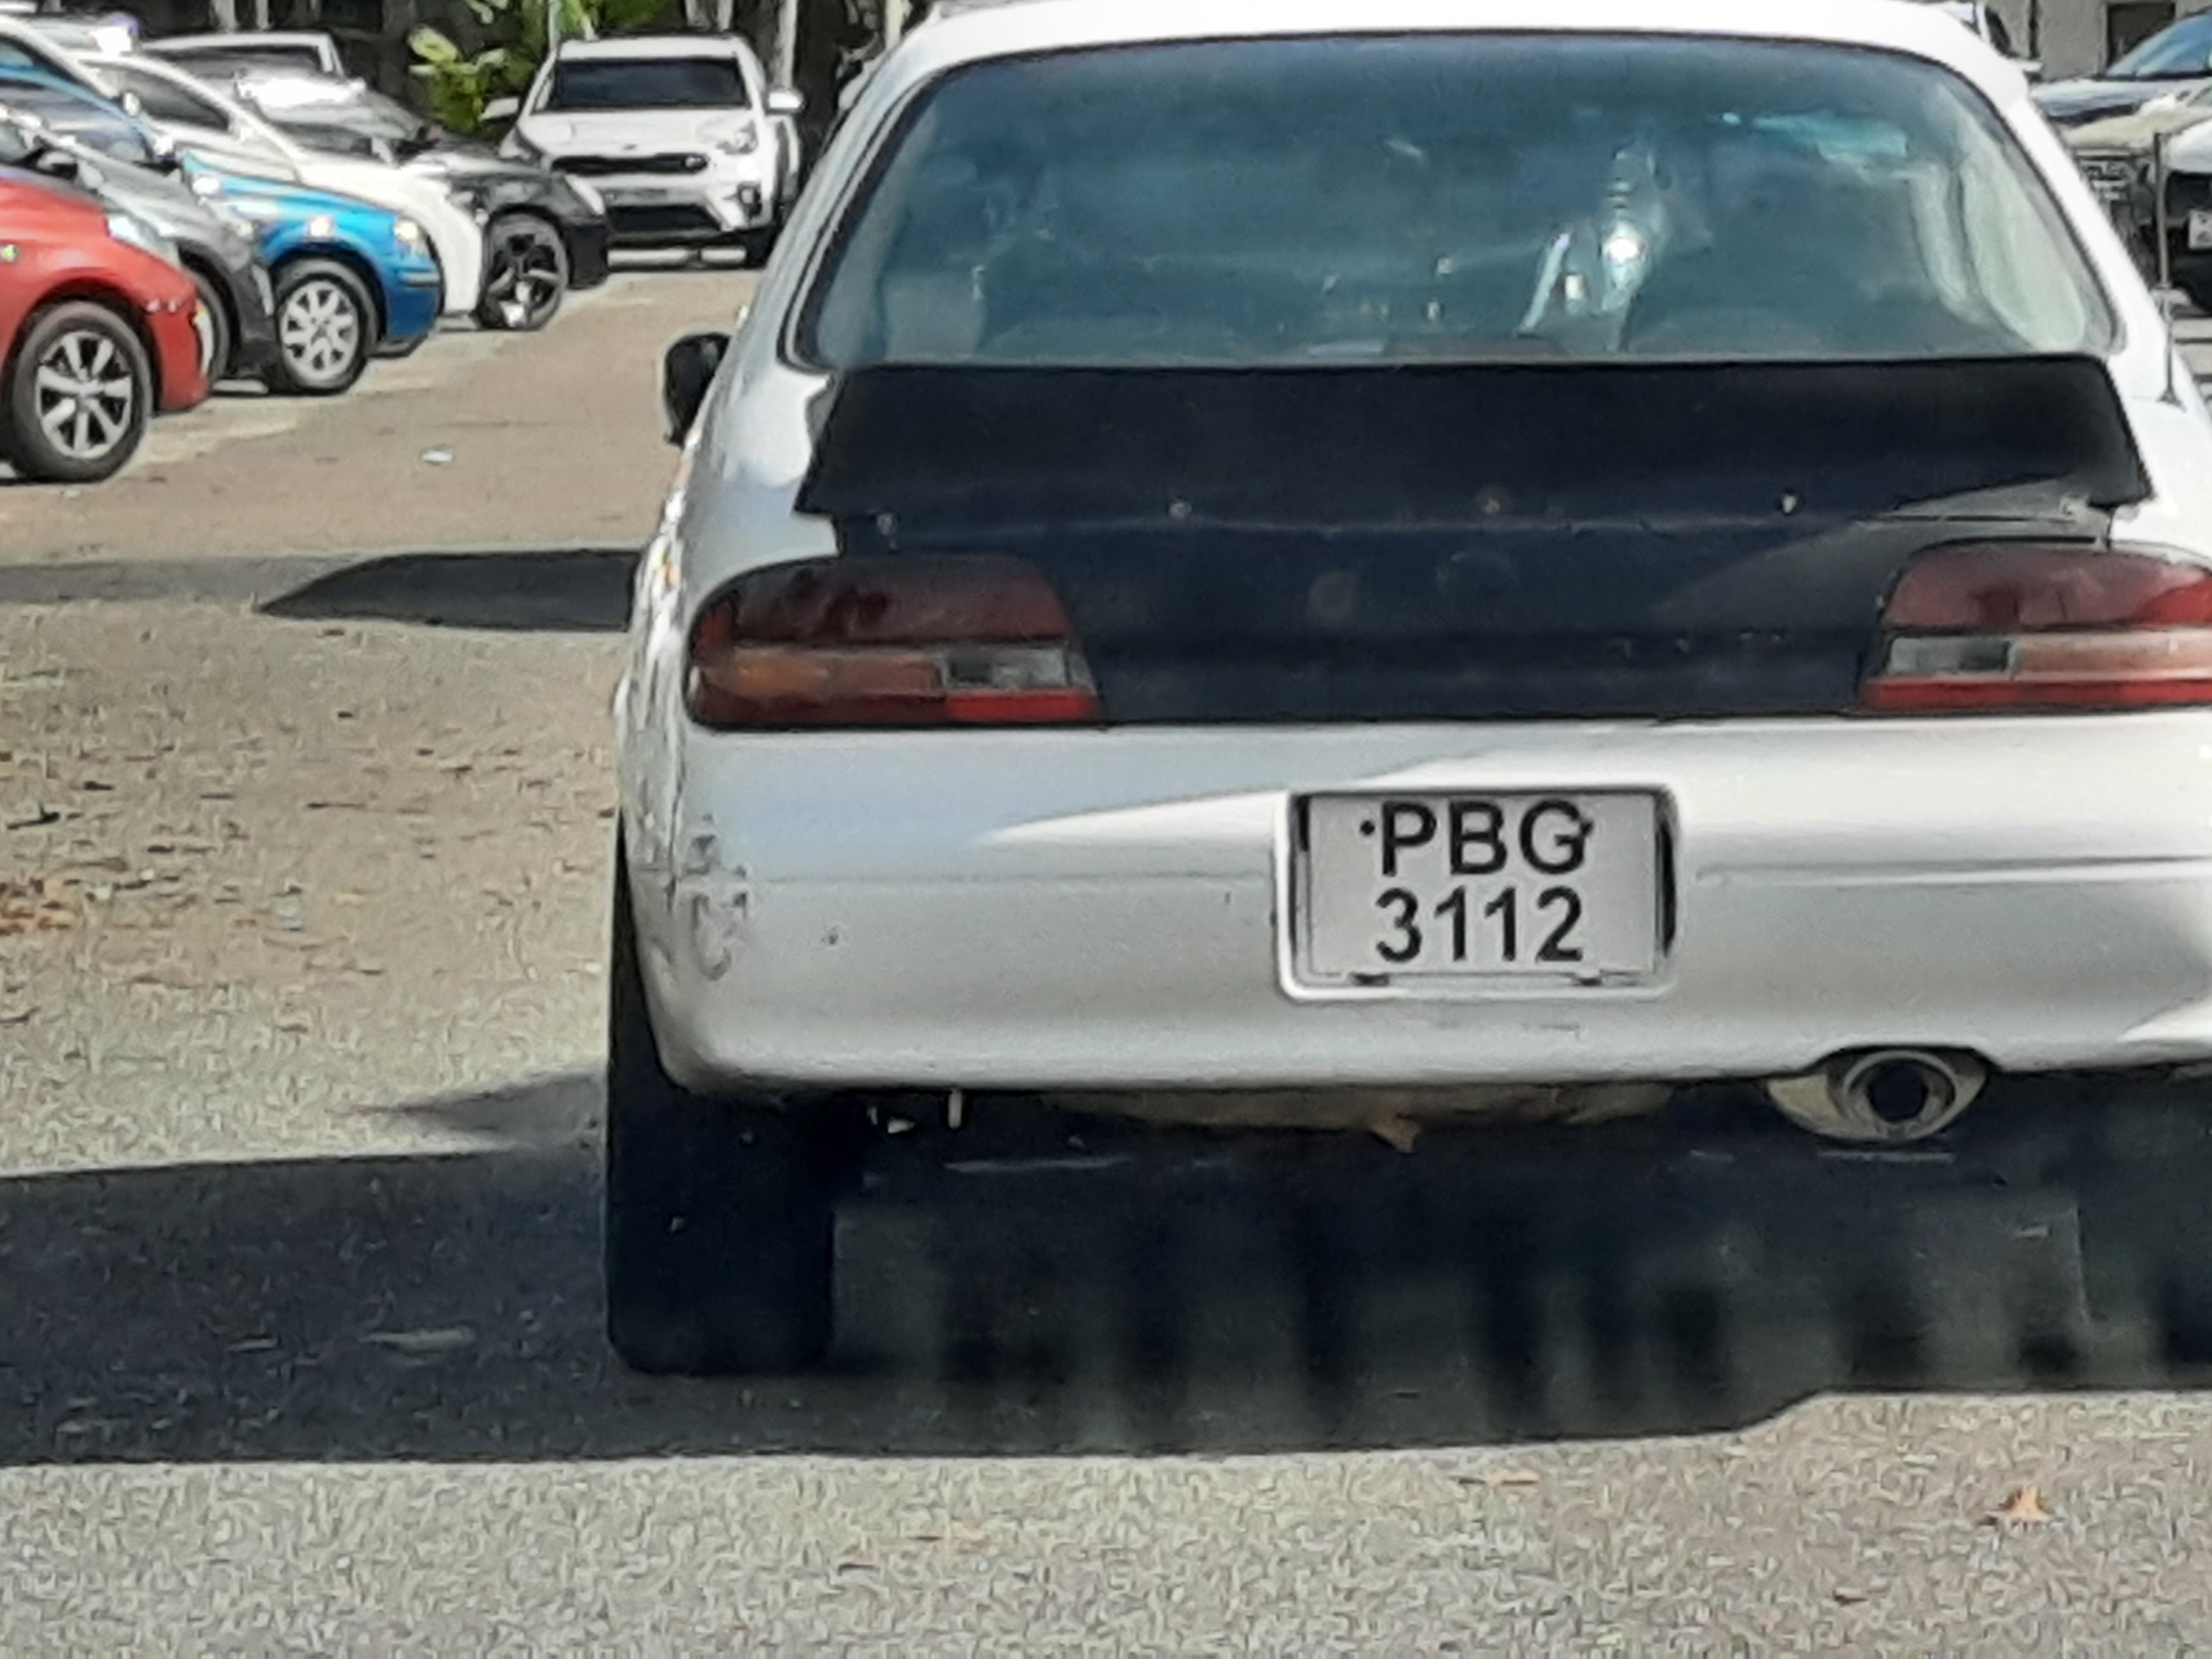License-Plate: (1309, 791, 1653, 977)
